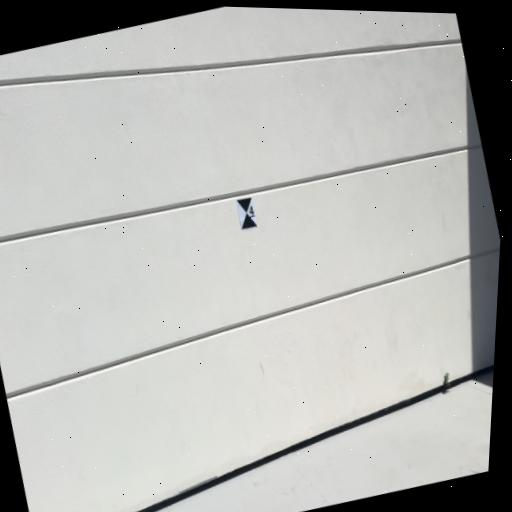target4: (234, 196, 260, 231)
